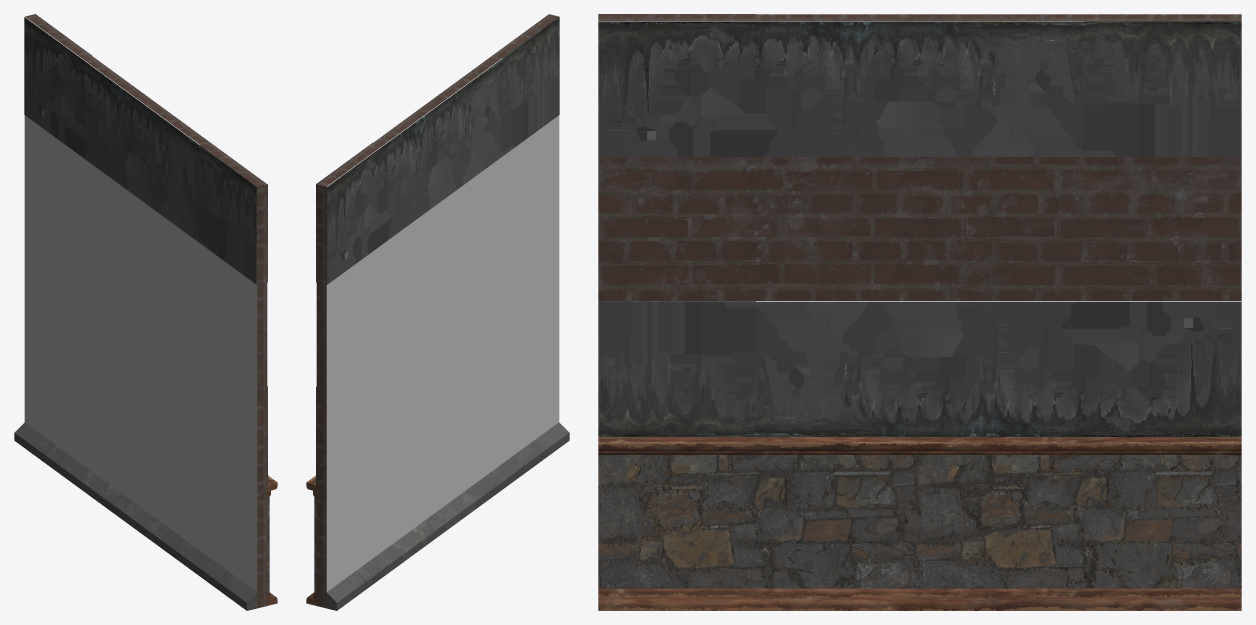
File: Kit_BricksCobblestone.fbx
The picture shows the model from 3 angles, left to right: view 1: azimuth 30°, elevation 25°; view 2: azimuth 150°, elevation 25°; view 3: azimuth 270°, elevation 25°; orthographic projection. The views are drawn at different scales.
Visible parts, largest first — view 1: Kit_BricksCobblestone; view 2: Kit_BricksCobblestone; view 3: Kit_BricksCobblestone.
Boxes of the visible parts, bbox=[...] form: Kit_BricksCobblestone: bbox=[14, 14, 277, 610]; Kit_BricksCobblestone: bbox=[306, 14, 569, 610]; Kit_BricksCobblestone: bbox=[598, 14, 1241, 610].
Size of the model in its own units: 11.91 by 157 by 157.
